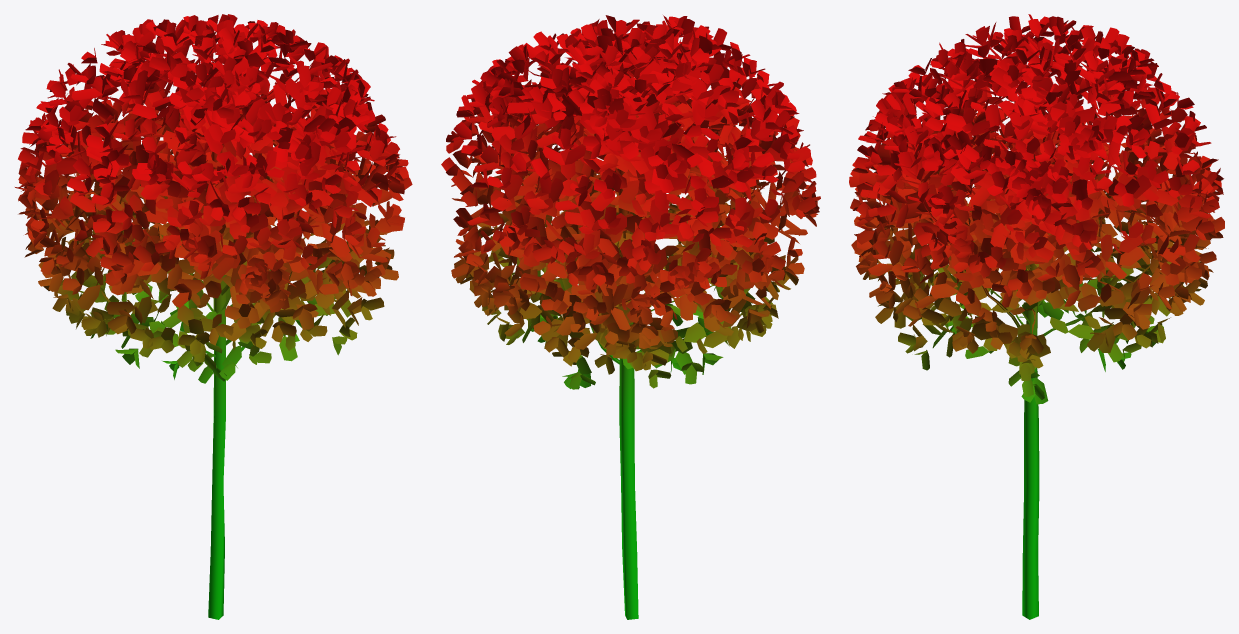
File: Var7_LOD4.fbx
3 renders of one model, left to right at view 1: azimuth 30°, elevation 25°; view 2: azimuth 150°, elevation 25°; view 3: azimuth 270°, elevation 25°, orthographic. The views are drawn at different scales.
Visible parts, largest first — view 1: _gc7n_Var7_LOD4; view 2: _gc7n_Var7_LOD4; view 3: _gc7n_Var7_LOD4.
Boxes of the visible parts, x1=… form: _gc7n_Var7_LOD4: x1=15, y1=14, x2=412, y2=619; _gc7n_Var7_LOD4: x1=441, y1=15, x2=820, y2=619; _gc7n_Var7_LOD4: x1=849, y1=14, x2=1224, y2=619.
Bounding box in the file's own units: 46.78 × 77.74 × 45.89.
